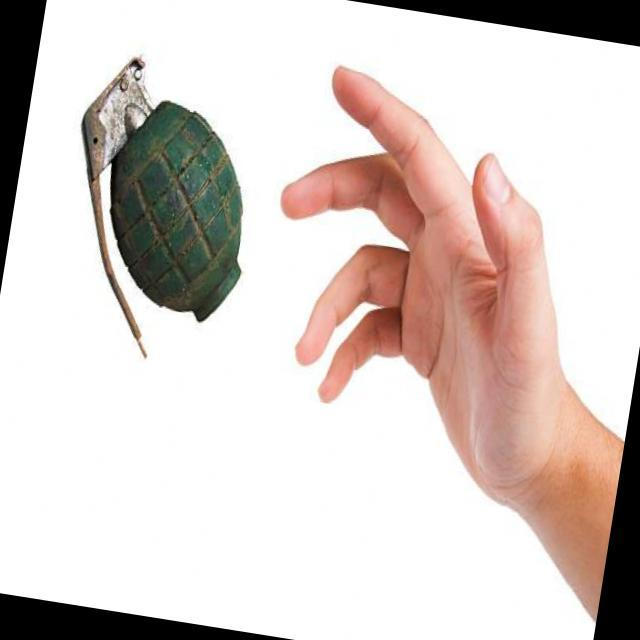grenade: (46, 51, 282, 384)
